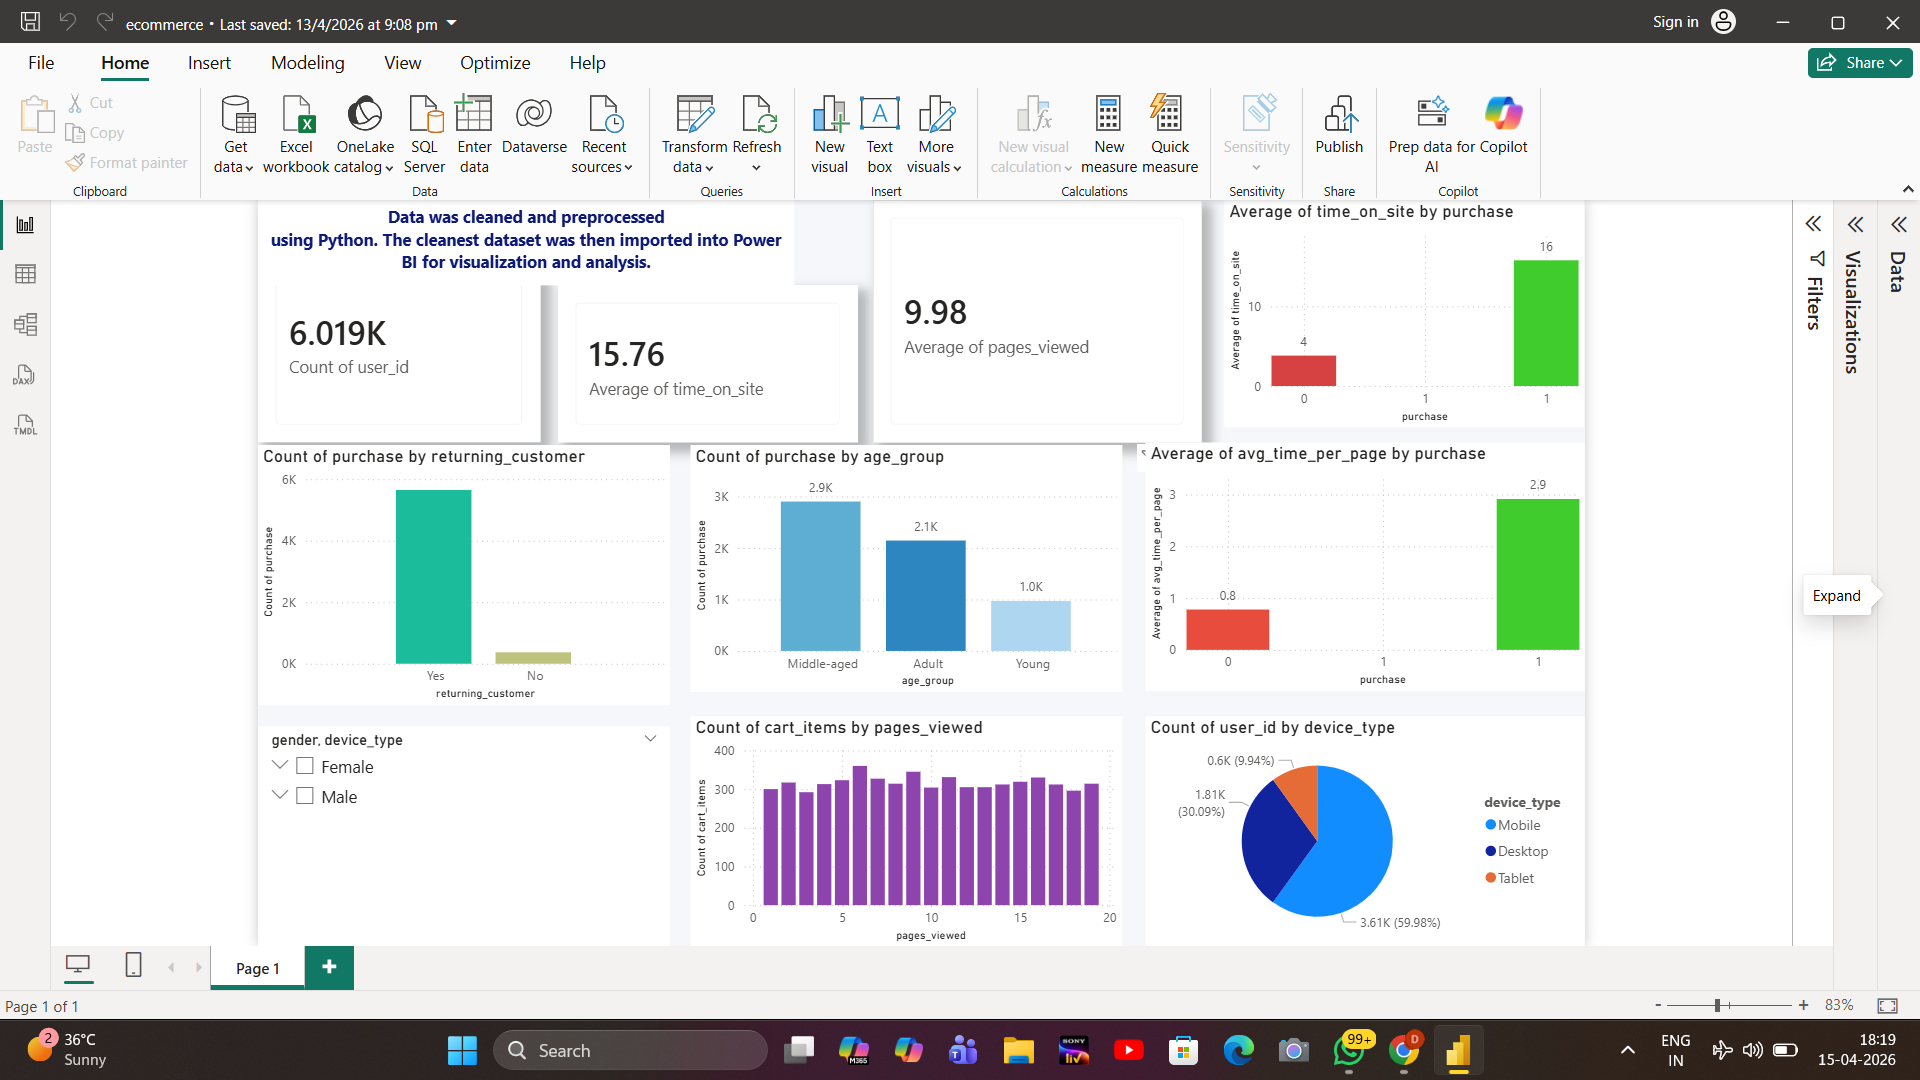

The dashboard page shown, as its layout file describes it:
{"tool":"powerbi","page":{"name":"Page 1","canvas":[1280,720],"ordinal":0},"visuals":[{"type":"cardVisual","fields":{"Data":["CountNonNull(cleaned_ecommerce_data.user_id)"]},"box":[0,41,272.7,193],"z":0},{"type":"cardVisual","fields":{"Data":["Avg(cleaned_ecommerce_data.time_on_site)"]},"box":[289.5,82,289.5,152],"z":1000},{"type":"cardVisual","fields":{"Data":["Avg(cleaned_ecommerce_data.pages_viewed)"]},"box":[593.6,0,317.3,234],"z":2000},{"type":"clusteredColumnChart","fields":{"Category":["cleaned_ecommerce_data.age_group"],"Y":["CountNonNull(cleaned_ecommerce_data.purchase)"]},"box":[417.2,236,417.2,238.8],"z":3000},{"type":"pieChart","fields":{"Category":["cleaned_ecommerce_data.device_type"],"Y":["CountNonNull(cleaned_ecommerce_data.user_id)"]},"box":[856.3,498.1,424,222.3],"z":4000},{"type":"clusteredColumnChart","fields":{"Y":["CountNonNull(cleaned_ecommerce_data.purchase)"],"Category":["cleaned_ecommerce_data.returning_customer"]},"box":[0,236,397.9,251.1],"z":5000},{"type":"clusteredColumnChart","fields":{"Category":["cleaned_ecommerce_data.purchase"],"Y":["Avg(cleaned_ecommerce_data.time_on_site)"]},"box":[933.1,0,347.2,219.6],"z":6000},{"type":"clusteredColumnChart","fields":{"Category":["cleaned_ecommerce_data.pages_viewed"],"Y":["CountNonNull(cleaned_ecommerce_data.cart_items)"]},"box":[417.2,498.1,417.2,222.3],"z":7000},{"type":"slicer","fields":{"Values":["cleaned_ecommerce_data.gender","cleaned_ecommerce_data.device_type"]},"box":[0,507.7,397.9,212.7],"z":8000},{"type":"clusteredColumnChart","fields":{"Category":["cleaned_ecommerce_data.purchase"],"Y":["Avg(cleaned_ecommerce_data.avg_time_per_page)"]},"box":[856.3,234.6,424,240.1],"z":9000},{"type":"textbox","box":[0,0,517.6,82],"z":10000}]}

Visuals, with their boxes on the page's 1280x720 design canvas (x1, y1, x2, y2). These are canvas units, not pixel positions in the 1920x1080 screenshot, which may show the page scaled, cropped or inside an application window:
cardVisual - CountNonNull(cleaned_ecommerce_data.user_id): box=[0, 41, 273, 234]
cardVisual - Avg(cleaned_ecommerce_data.time_on_site): box=[290, 82, 579, 234]
cardVisual - Avg(cleaned_ecommerce_data.pages_viewed): box=[594, 0, 911, 234]
clusteredColumnChart - cleaned_ecommerce_data.age_group x CountNonNull(cleaned_ecommerce_data.purchase): box=[417, 236, 834, 475]
pieChart - cleaned_ecommerce_data.device_type x CountNonNull(cleaned_ecommerce_data.user_id): box=[856, 498, 1280, 720]
clusteredColumnChart - CountNonNull(cleaned_ecommerce_data.purchase) x cleaned_ecommerce_data.returning_customer: box=[0, 236, 398, 487]
clusteredColumnChart - cleaned_ecommerce_data.purchase x Avg(cleaned_ecommerce_data.time_on_site): box=[933, 0, 1280, 220]
clusteredColumnChart - cleaned_ecommerce_data.pages_viewed x CountNonNull(cleaned_ecommerce_data.cart_items): box=[417, 498, 834, 720]
slicer - cleaned_ecommerce_data.gender x cleaned_ecommerce_data.device_type: box=[0, 508, 398, 720]
clusteredColumnChart - cleaned_ecommerce_data.purchase x Avg(cleaned_ecommerce_data.avg_time_per_page): box=[856, 235, 1280, 475]
textbox: box=[0, 0, 518, 82]
